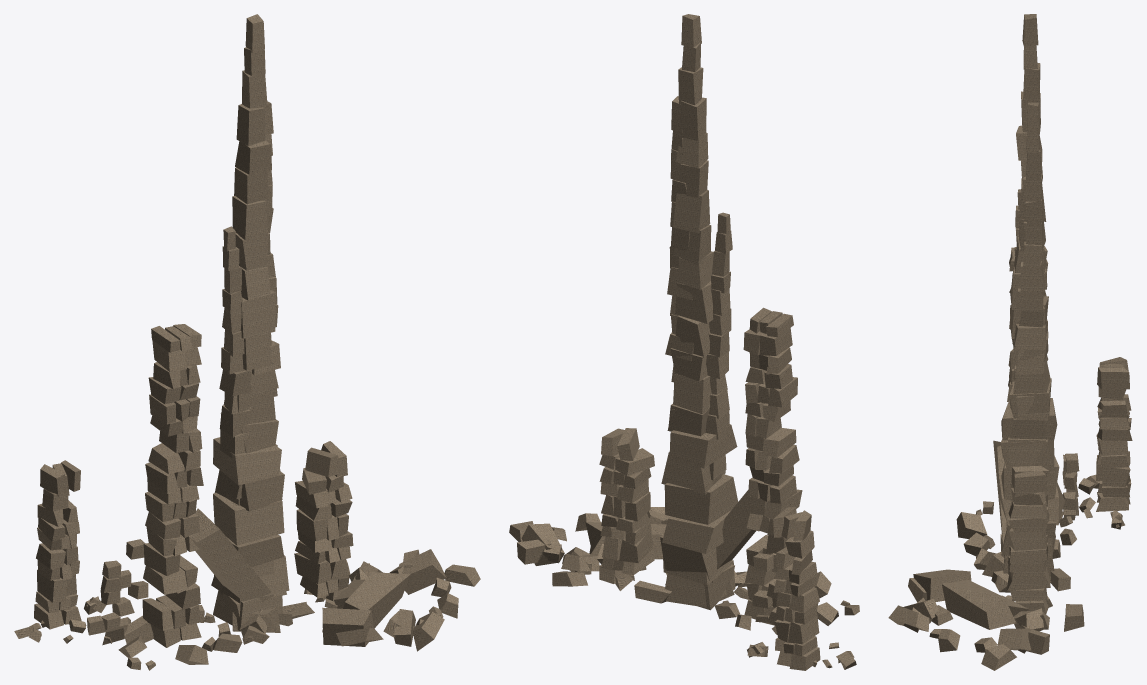
File: monuments.glb
3 renders of one model, left to right at view 1: azimuth 30°, elevation 25°; view 2: azimuth 150°, elevation 25°; view 3: azimuth 270°, elevation 25°, orthographic. The views are drawn at different scales.
Visible parts, largest first — view 1: gate, needle_c, needle_b, needle_a; view 2: gate, needle_c, needle_b, needle_a; view 3: gate, needle_c, needle_a.
Boxes of the visible parts, x1=… form: gate: x1=14, y1=324, x2=480, y2=670; needle_c: x1=213, y1=14, x2=289, y2=631; needle_b: x1=219, y1=226, x2=257, y2=594; needle_a: x1=211, y1=101, x2=286, y2=624; gate: x1=509, y1=307, x2=859, y2=670; needle_c: x1=660, y1=14, x2=738, y2=607; needle_b: x1=705, y1=212, x2=732, y2=582; needle_a: x1=663, y1=96, x2=734, y2=610; gate: x1=888, y1=246, x2=1132, y2=670; needle_c: x1=999, y1=14, x2=1064, y2=582; needle_a: x1=1004, y1=102, x2=1055, y2=559.
Size of the model in its own units: 105 by 147 by 57.24.
1 material, 1 textured.
